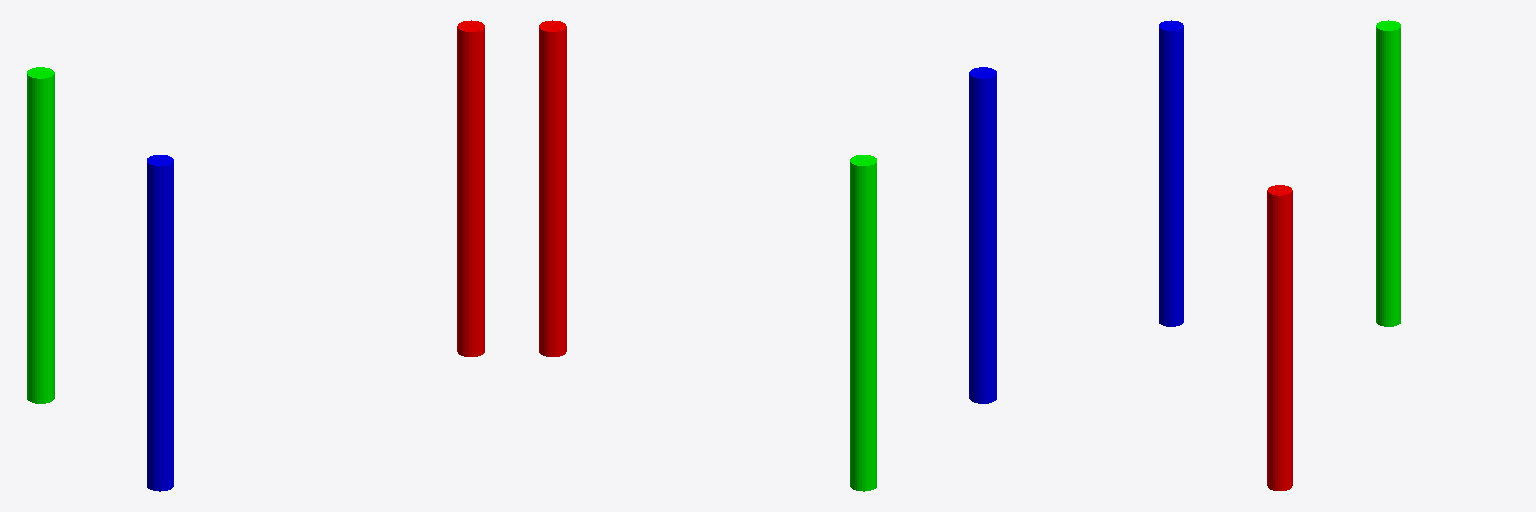
robot.urdf — obstacle_goal:
<?xml version="1.0"?>
<robot name="obstacle_goal">

  <link name="world"/> 

  <link name="cylinder_link_1">
    <inertial>
      <mass value="1000"/> 
      <inertia ixx="0.1" ixy="0" ixz="0" iyy="0.1" iyz="0" izz="0.1" />
      <origin xyz="0 0 0" rpy="0 0 0"/>
    </inertial>
    <visual>
      <origin xyz="0 0 0" rpy="0 0 0" /> 
      <geometry>
        <cylinder radius="0.05" length="1.3"/>
      </geometry>
      <material name="Red_Fallback">
        <color rgba="1 0 0 1" />
      </material>
    </visual>
    <collision>
      <origin xyz="0 0 0" rpy="0 0 0" />
      <geometry>
        <cylinder radius="0.05" length="1.3"/>
      </geometry>
    </collision>
  </link>

  <joint name="cylinder_joint_1" type="fixed">
    <parent link="world"/>
    <child link="cylinder_link_1"/>
    <origin xyz="1.3 0 0.25" rpy="0 0 0"/>
  </joint>

  <link name="cylinder_link_2">
    <inertial>
      <mass value="1000"/>
      <inertia ixx="0.1" ixy="0" ixz="0" iyy="0.1" iyz="0" izz="0.1" />
      <origin xyz="0 0 0" rpy="0 0 0"/>
    </inertial>
    <visual>
      <origin xyz="0 0 0" rpy="0 0 0" />
      <geometry>
        <cylinder radius="0.05" length="1.3"/>
      </geometry>
      <material name="Green_Fallback">
        <color rgba="0 1 0 1" />
      </material>
    </visual>
    <collision>
      <origin xyz="0 0 0" rpy="0 0 0" />
      <geometry>
        <cylinder radius="0.05" length="1.3"/>
      </geometry>
    </collision>
  </link>
  
  <joint name="cylinder_joint_2" type="fixed">
    <parent link="world"/>
    <child link="cylinder_link_2"/>
    <origin xyz="-0.25 0.433 0.25" rpy="0 0 0"/>
  </joint>

  <link name="cylinder_link_3">
    <inertial>
      <mass value="1000"/>
      <inertia ixx="0.1" ixy="0" ixz="0" iyy="0.1" iyz="0" izz="0.1" />
      <origin xyz="0 0 0" rpy="0 0 0"/>
    </inertial>
    <visual>
      <origin xyz="0 0 0" rpy="0 0 0" />
      <geometry>
        <cylinder radius="0.05" length="1.3"/>
      </geometry>
      <material name="Blue_Fallback">
        <color rgba="0 0 1 1" />
      </material>
    </visual>
    <collision>
      <origin xyz="0 0 0" rpy="0 0 0" />
      <geometry>
        <cylinder radius="0.05" length="1.3"/>
      </geometry>
    </collision>
  </link>

  <joint name="cylinder_joint_3" type="fixed">
    <parent link="world"/>
    <child link="cylinder_link_3"/>
    <origin xyz="-0.25 -0.433 0.25" rpy="0 0 0"/>
  </joint>

  <gazebo reference="cylinder_link_1">
    <material>Gazebo/Aluminium</material>
  </gazebo>

  <gazebo reference="cylinder_link_2">
    <material>Gazebo/Aluminium</material>
  </gazebo>

  <gazebo reference="cylinder_link_3">
    <material>Gazebo/Aluminium</material>
  </gazebo>

</robot>

--- What the picture shows (computed from the rendered views, not written in the file) ---
Views: 3 orthographic renders of the robot side by side, from view 1: azimuth 30°, elevation 25°; view 2: azimuth 150°, elevation 25°; view 3: azimuth 270°, elevation 25°.
Model obstacle_goal with 4 links and 3 joints (3 fixed), rooted at world, posed every joint at zero.
Links seen in each view (by area): view 1: cylinder_link_2, cylinder_link_1, cylinder_link_3; view 2: cylinder_link_3, cylinder_link_1, cylinder_link_2; view 3: cylinder_link_1, cylinder_link_2, cylinder_link_3.
Boxes of the visible links, x1,y1,x2,y2 form: cylinder_link_2: (27,67,54,403); cylinder_link_1: (457,20,484,356); cylinder_link_3: (147,155,173,491); cylinder_link_3: (969,67,996,403); cylinder_link_1: (539,20,566,356); cylinder_link_2: (850,155,876,491); cylinder_link_1: (1267,185,1292,490); cylinder_link_2: (1376,20,1400,326); cylinder_link_3: (1159,20,1183,326).
Size in the robot's own frame: 1.65 by 0.966 by 1.3 metres.
Geometry: primitives only (box / cylinder / sphere), no mesh files.